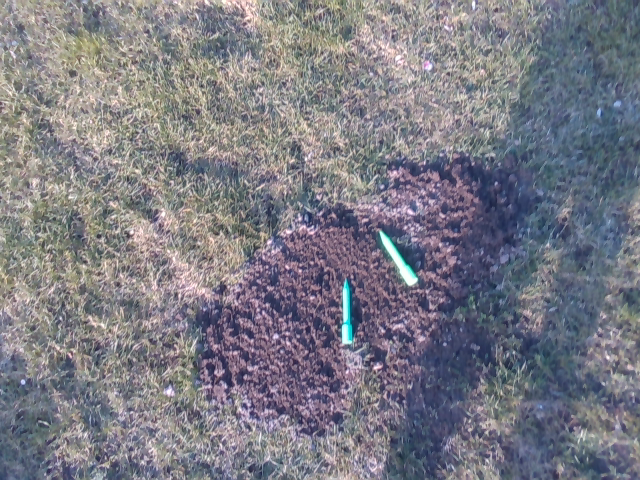Probe: (376, 228, 422, 292), (340, 271, 356, 348)
